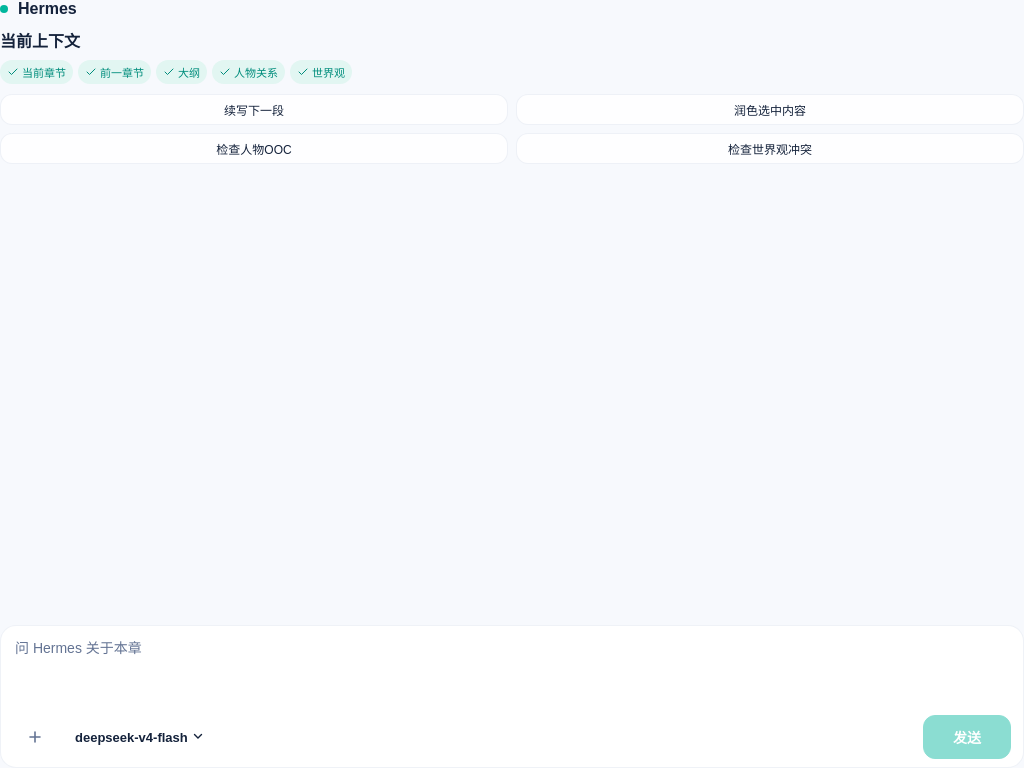
Test: EchoChat › shows a Chinese error when the model service is unreachable
This screenshot has width=1024, height=768.
Type "hi" into the text box named "给 Hermes 的消息" at (512, 670), box [13,636,1011,703]
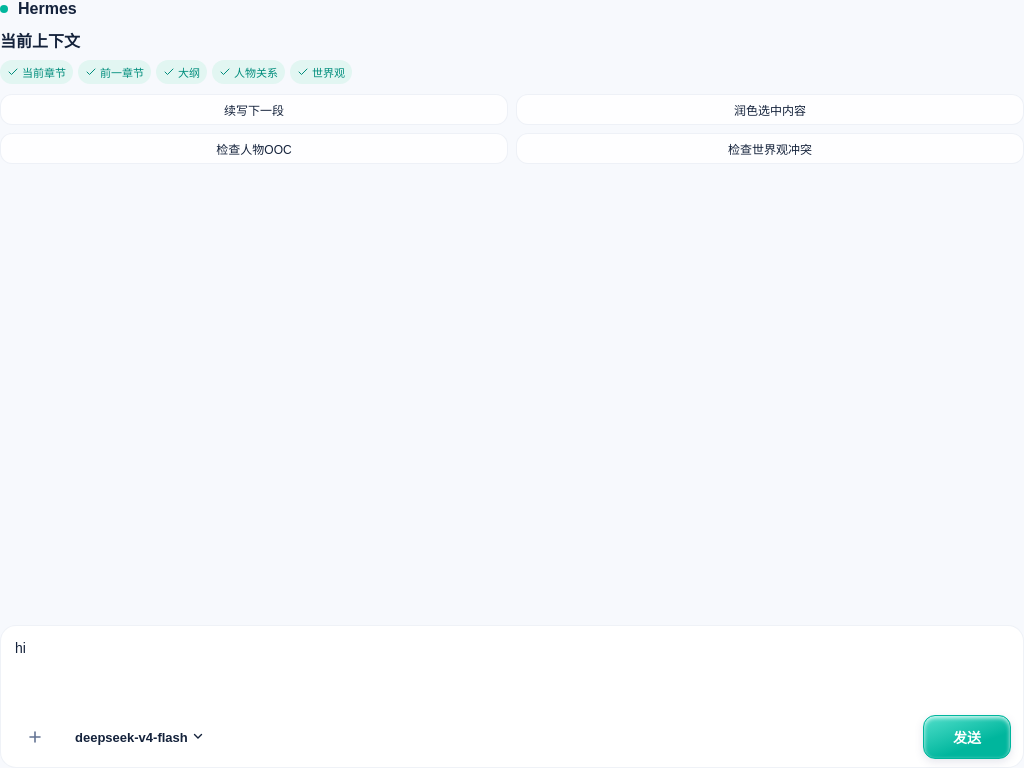
Click the button "发送" at (967, 737), box [923,715,1011,759]
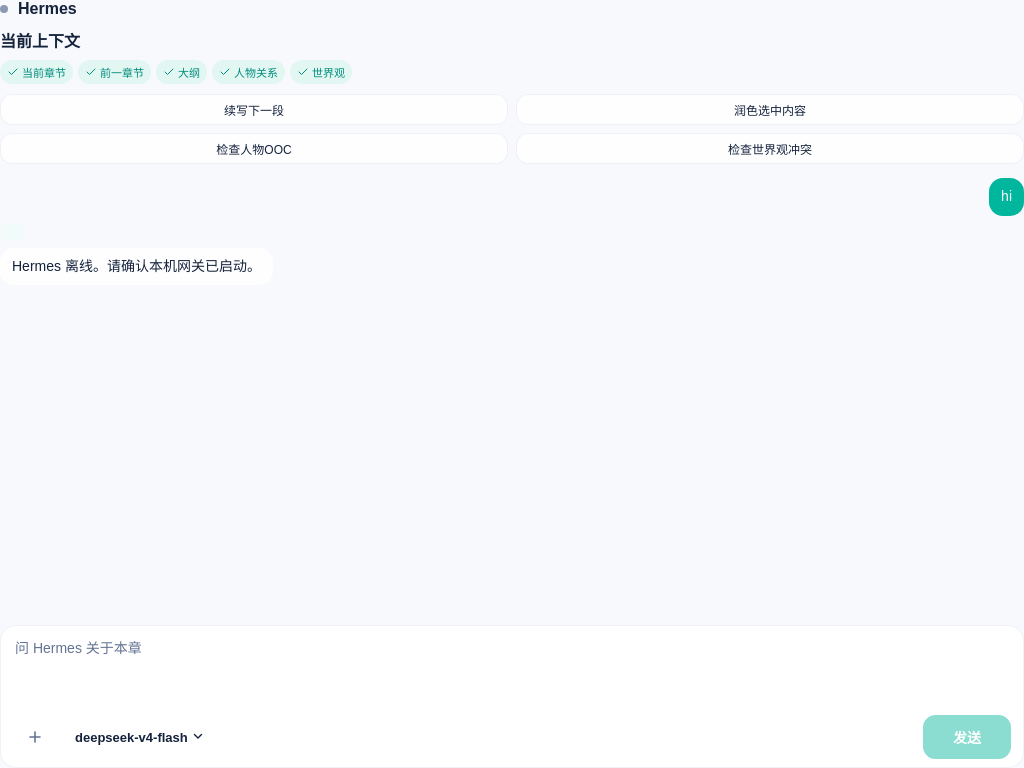
Expected: the element showing "hi Hermes 离线。请确认本机网关已启动。" is shown, [0,178,1023,285]
